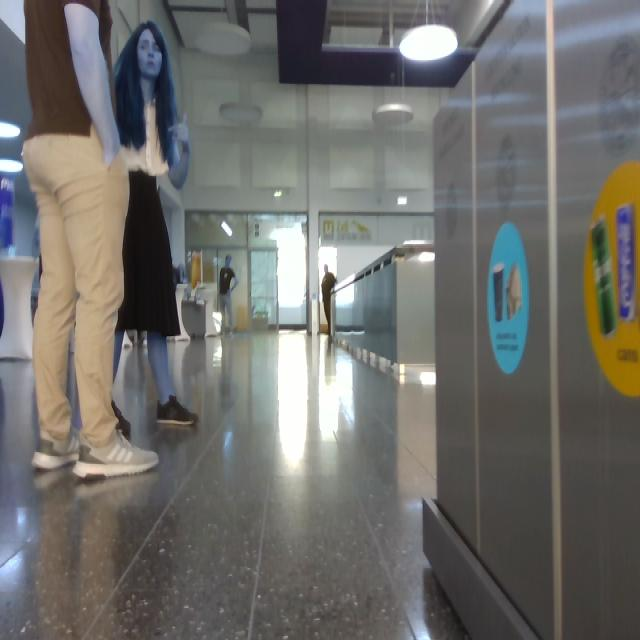door: (249, 250, 279, 329)
light bulb: (374, 70, 413, 126), (400, 25, 458, 62), (195, 22, 250, 56), (1, 122, 21, 138), (1, 160, 23, 173), (223, 221, 233, 237)
person: (23, 1, 159, 477), (219, 256, 238, 332), (322, 266, 337, 337)
staircase: (333, 242, 435, 380)
table: (1, 257, 39, 360), (176, 285, 190, 341)
tiled floor: (1, 334, 465, 640)
trash bin: (423, 1, 640, 640)
